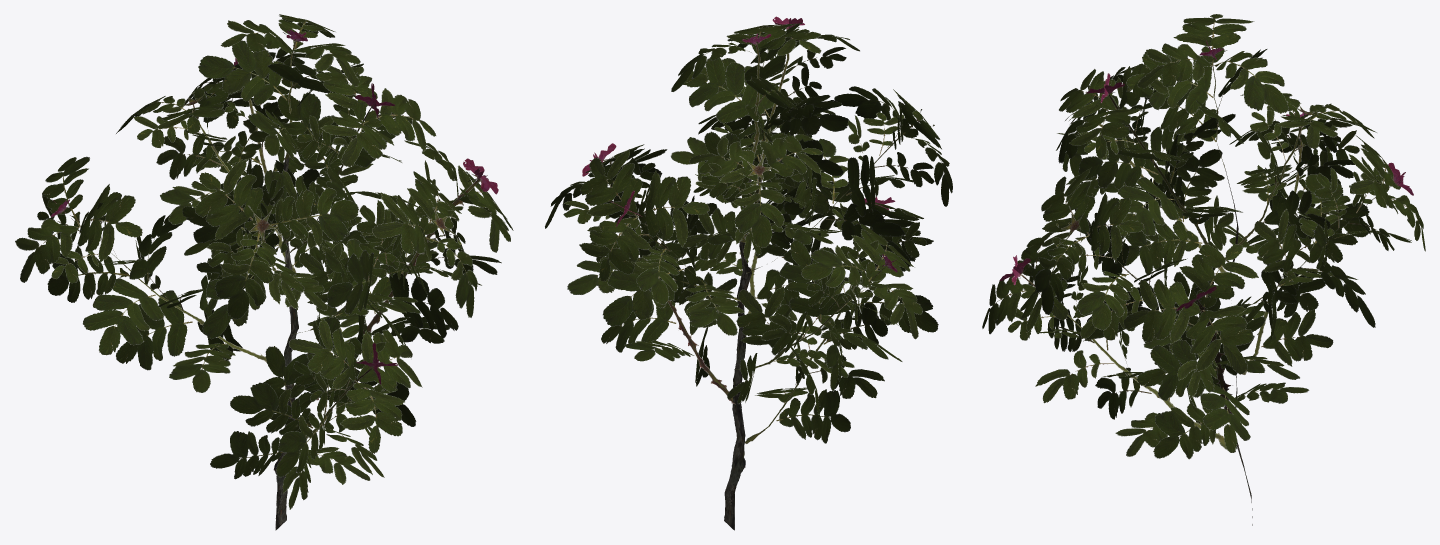
File: RoseHipBushMedDetail.fbx
3 renders of one model, left to right at view 1: azimuth 30°, elevation 25°; view 2: azimuth 150°, elevation 25°; view 3: azimuth 270°, elevation 25°, orthographic. The views are drawn at different scales.
Visible parts, largest first — view 1: _h4qq_VarA_LOD4; view 2: _h4qq_VarA_LOD4; view 3: _h4qq_VarA_LOD4.
Part boxes in pixels (x1,y1,x2,y2): _h4qq_VarA_LOD4: (15,14,513,530); _h4qq_VarA_LOD4: (545,16,952,530); _h4qq_VarA_LOD4: (982,14,1425,525).
Bounding box in the file's own units: 111 × 128 × 105.
